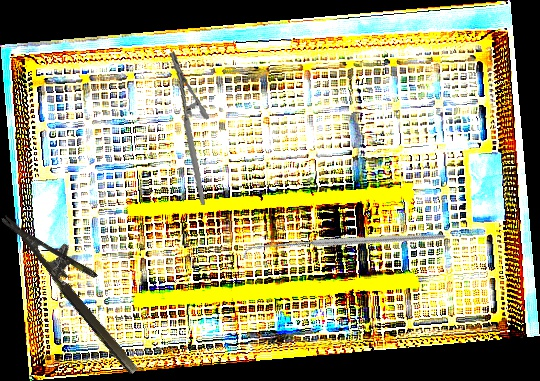Hook Surgical: (241, 156, 448, 336)
Needle Holder: (0, 194, 160, 377), (148, 50, 226, 206)
